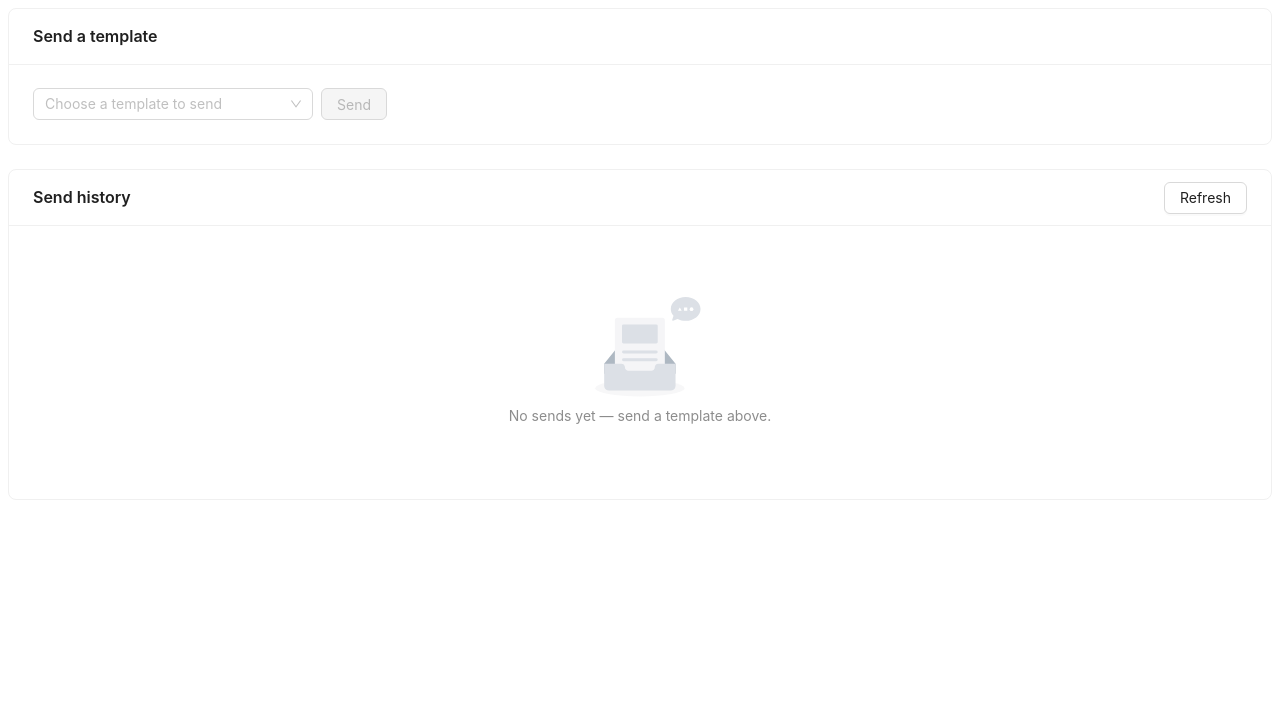
Test: SendHistoryPage › sends the selected template and shows an acceptance toast
Expected: the text "No sends yet — send a template above." is shown, top-left (509, 407), bottom-right (771, 424)
Click the dropdown at (164,104), box top-left (45, 89), bottom-right (283, 119)
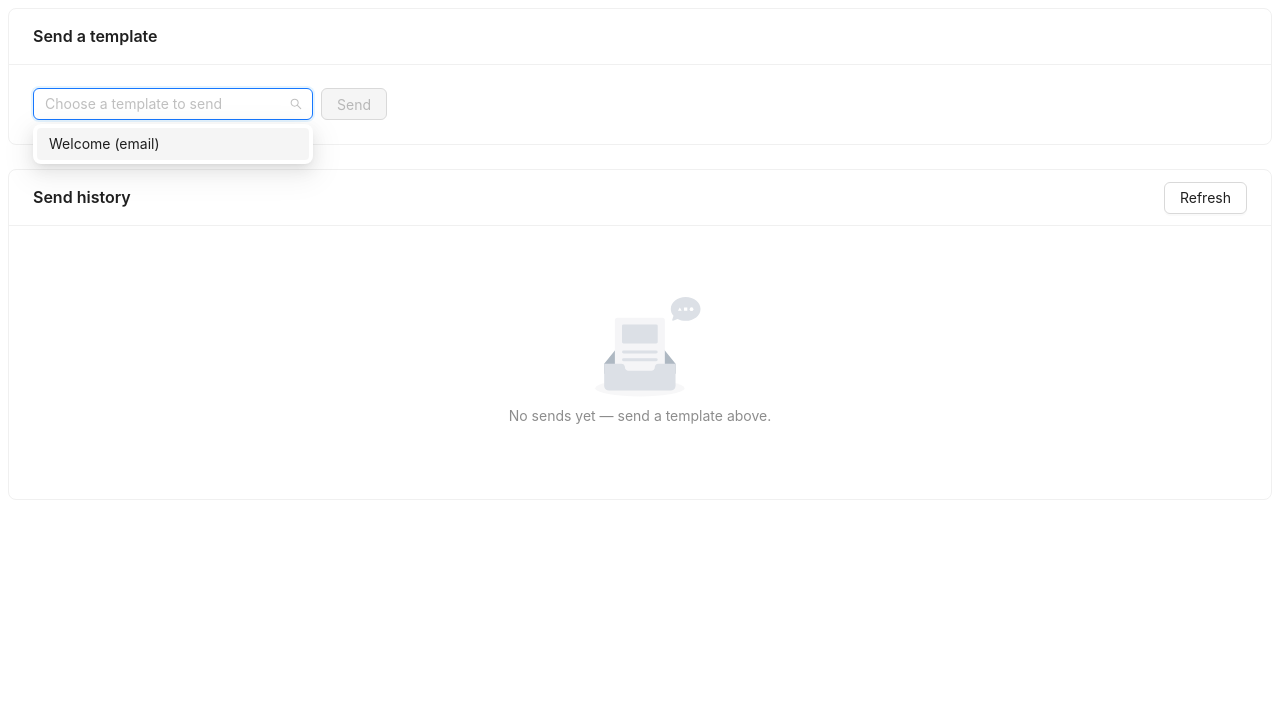
Click the text "Welcome (email)" at (104,144), box top-left (49, 135), bottom-right (160, 152)
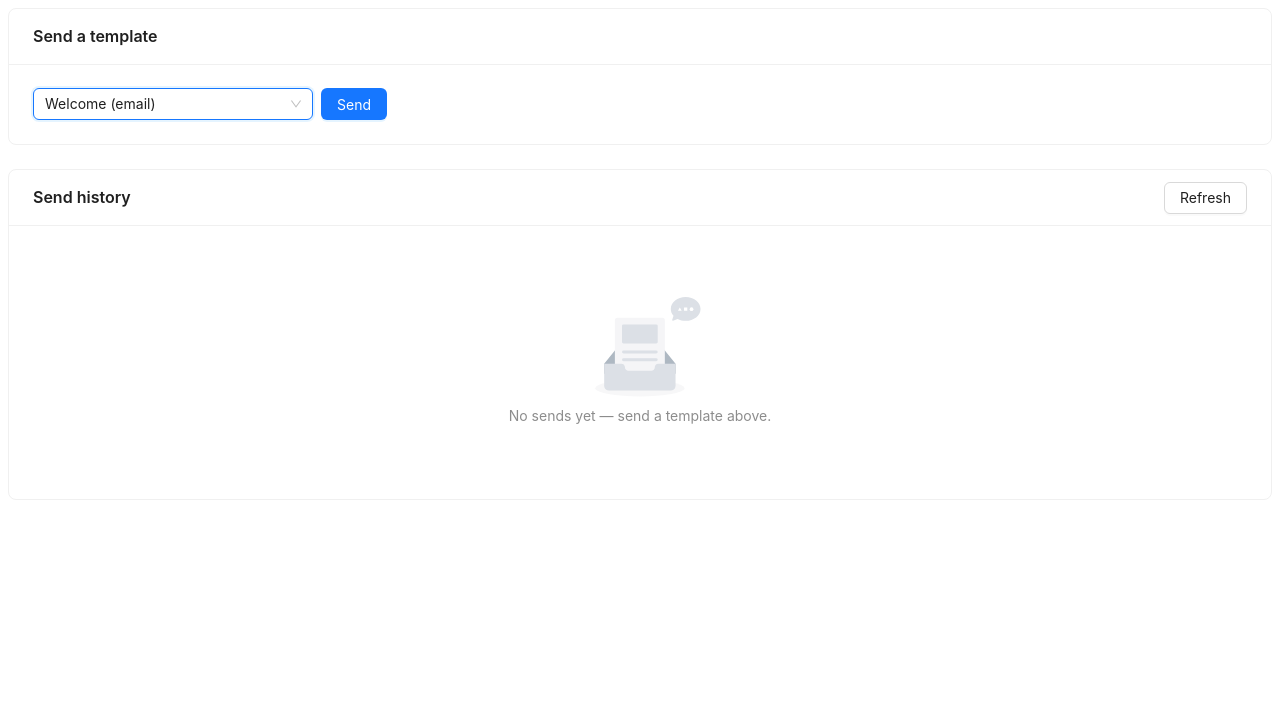
Click the button "Send" at (354,104), box top-left (321, 88), bottom-right (387, 120)
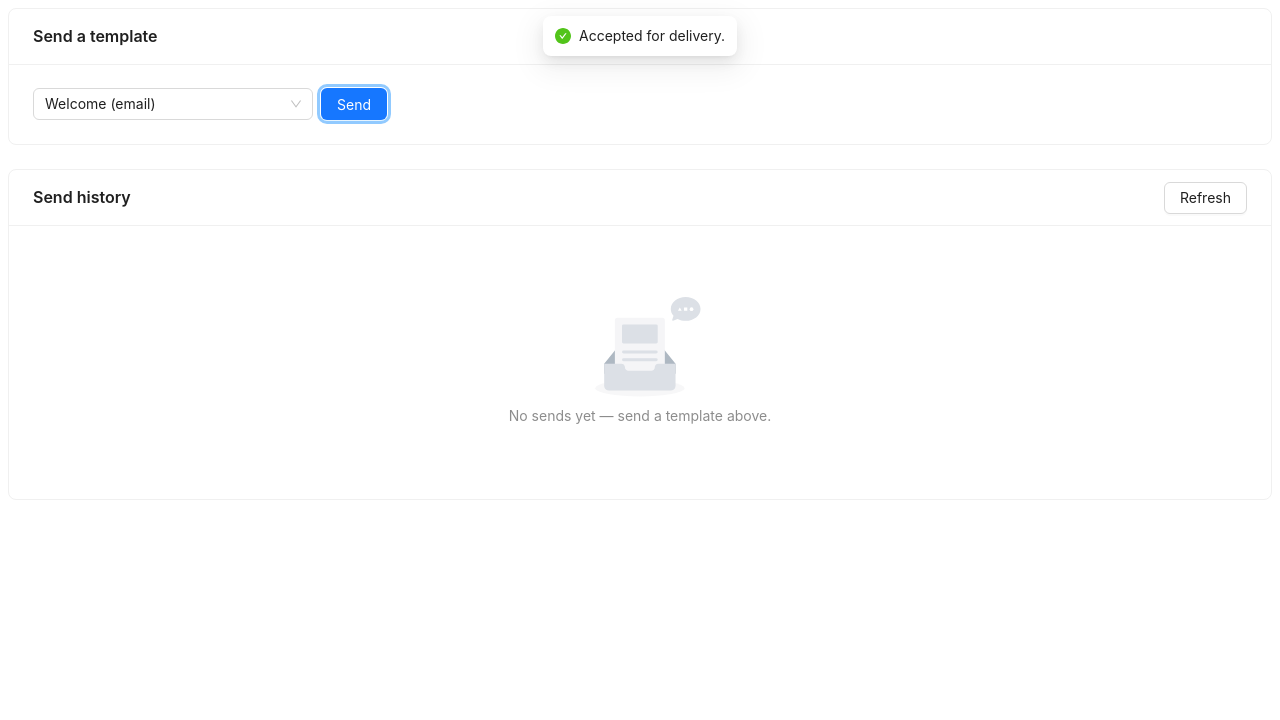
Result: the text "Accepted for delivery." is shown at top-left (579, 25), bottom-right (725, 47)
